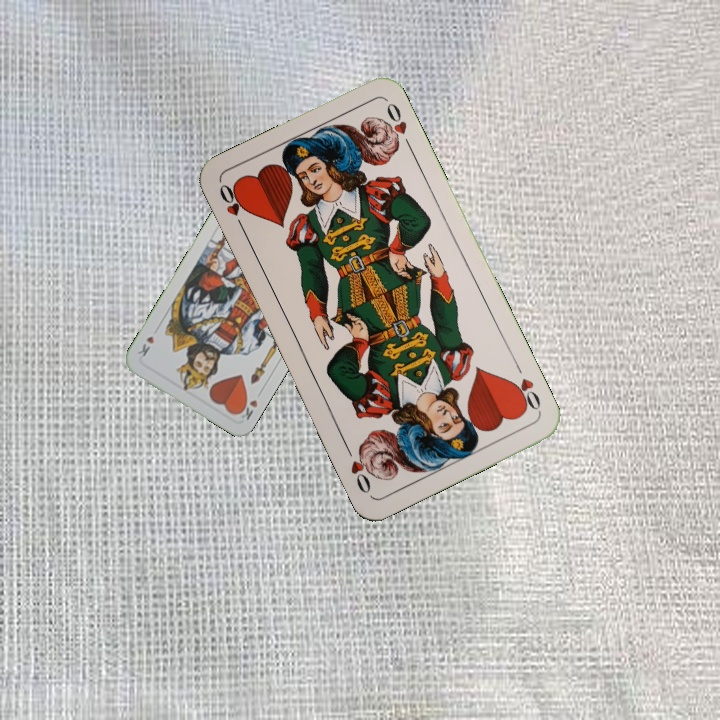HK: (234, 392, 260, 423)
HO: (507, 359, 544, 414), (215, 179, 249, 236)
